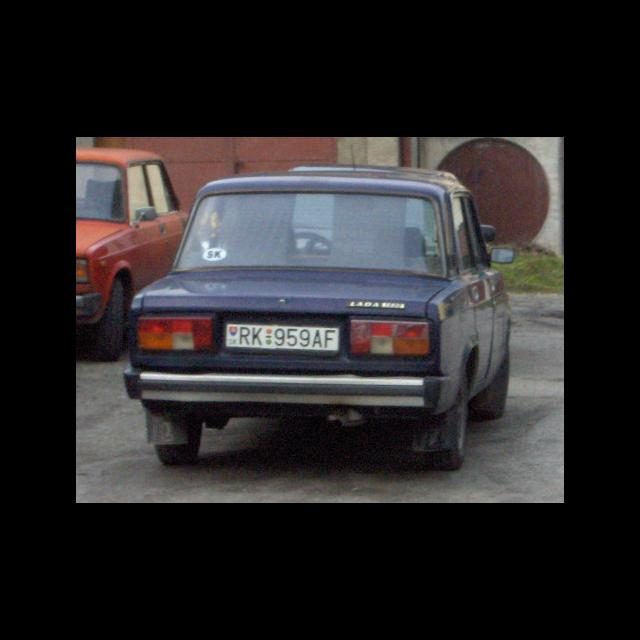Plate: (223, 320, 341, 354)
